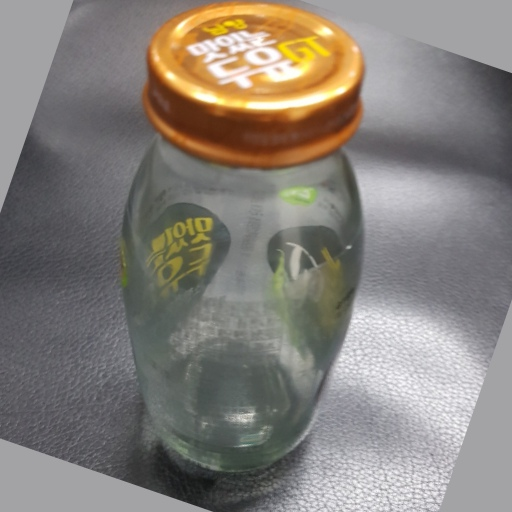Glass_4: (110, 2, 374, 498)
